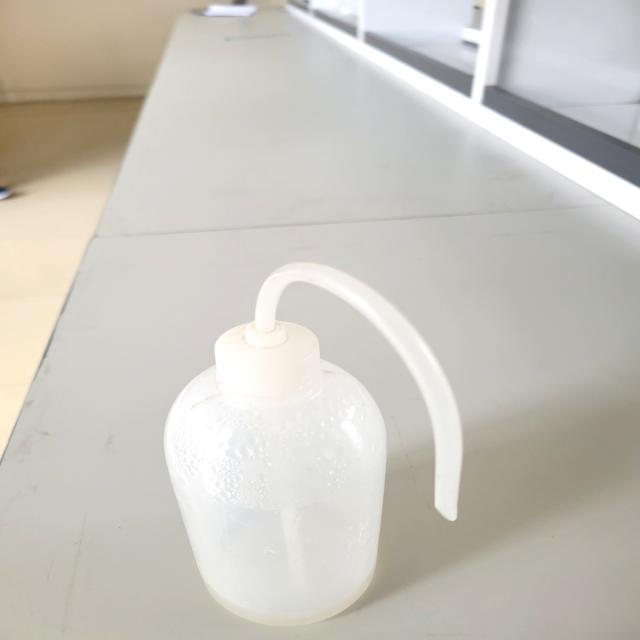Wash_Bottle: (148, 240, 480, 639)
